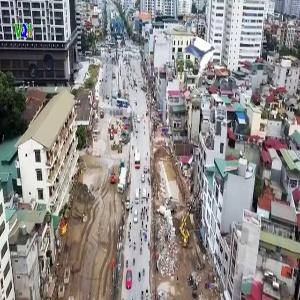drone: (169, 36, 211, 78)
